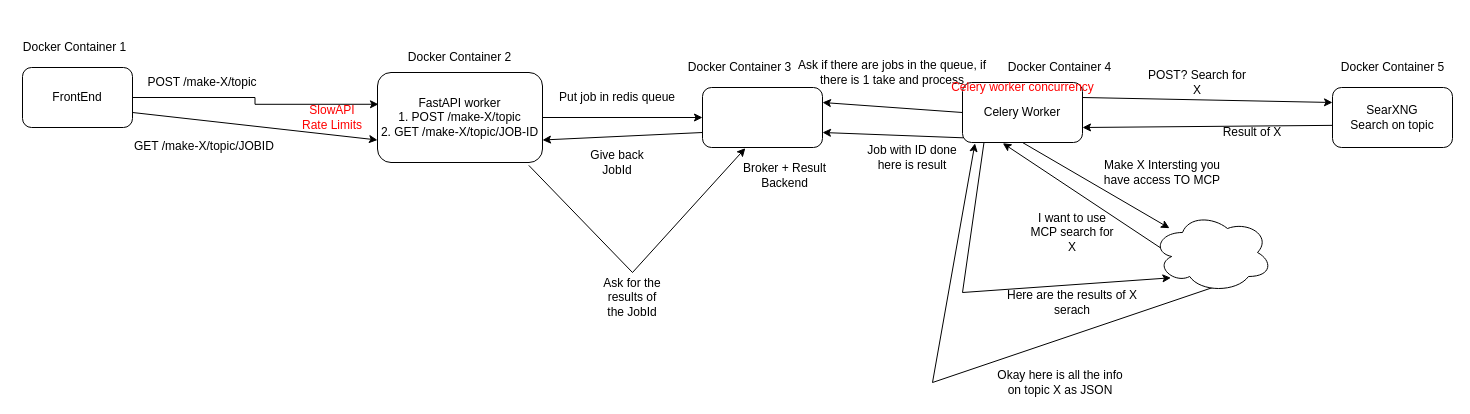
Image size: 1470x414. Some labels were removed from this diagram. The box of each missing label's shape, as (x1, y1, x2, y2) in pixels:
AI: (1152, 212, 1272, 292)
Redis Job Queue & MailBox temp storage: (702, 86, 822, 148)
